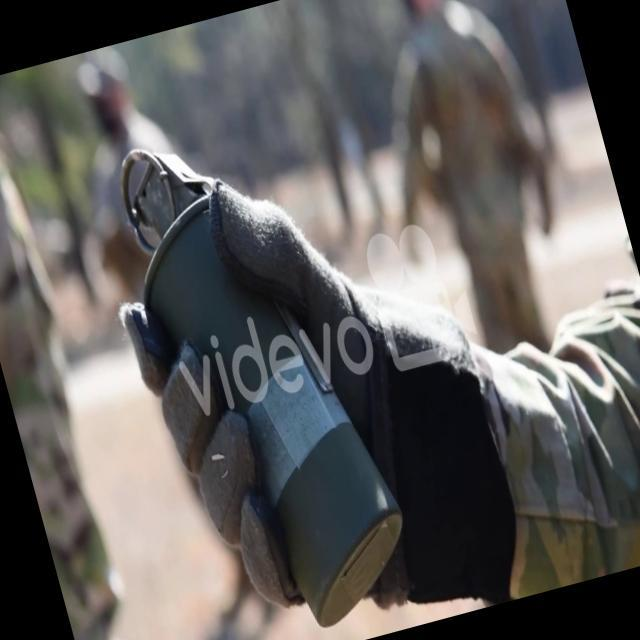grenade: (97, 100, 426, 640)
